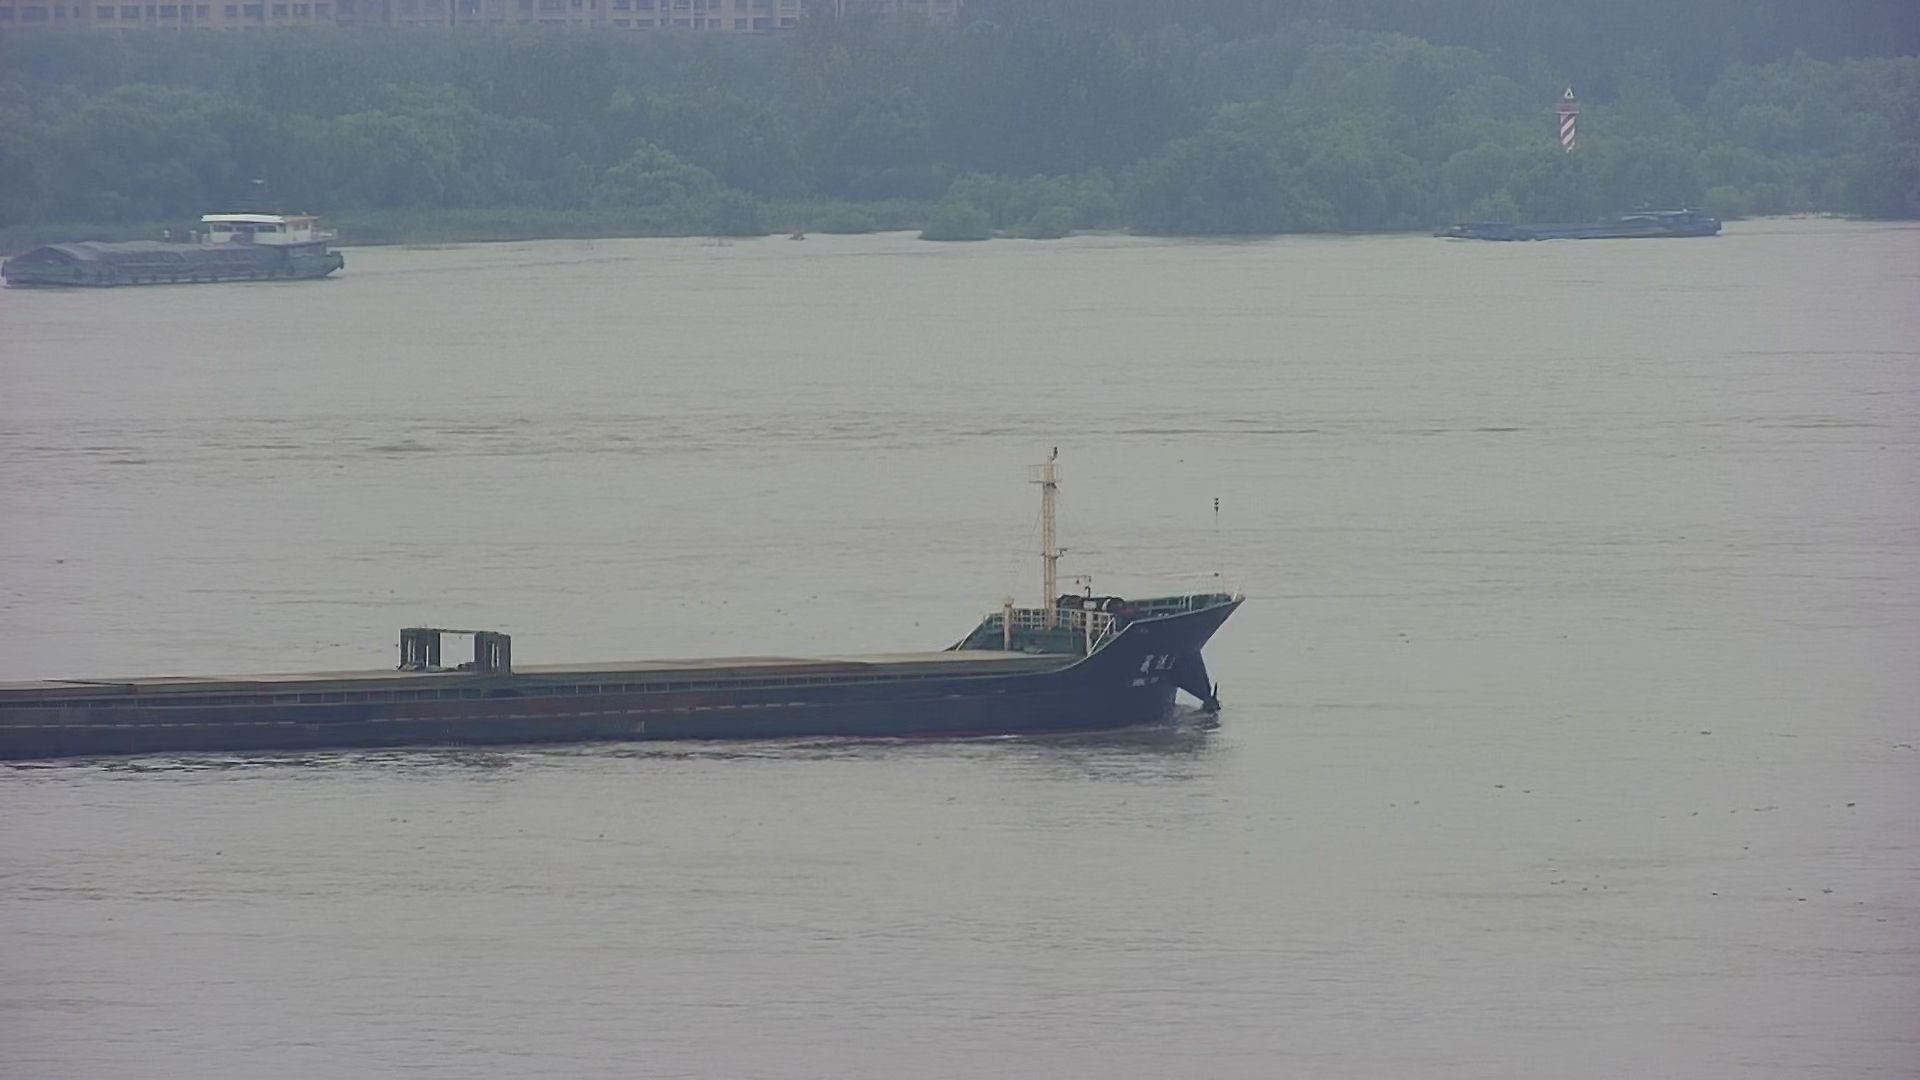boat: (1432, 193, 1770, 256)
ship: (1, 525, 1242, 764), (3, 196, 382, 301)
